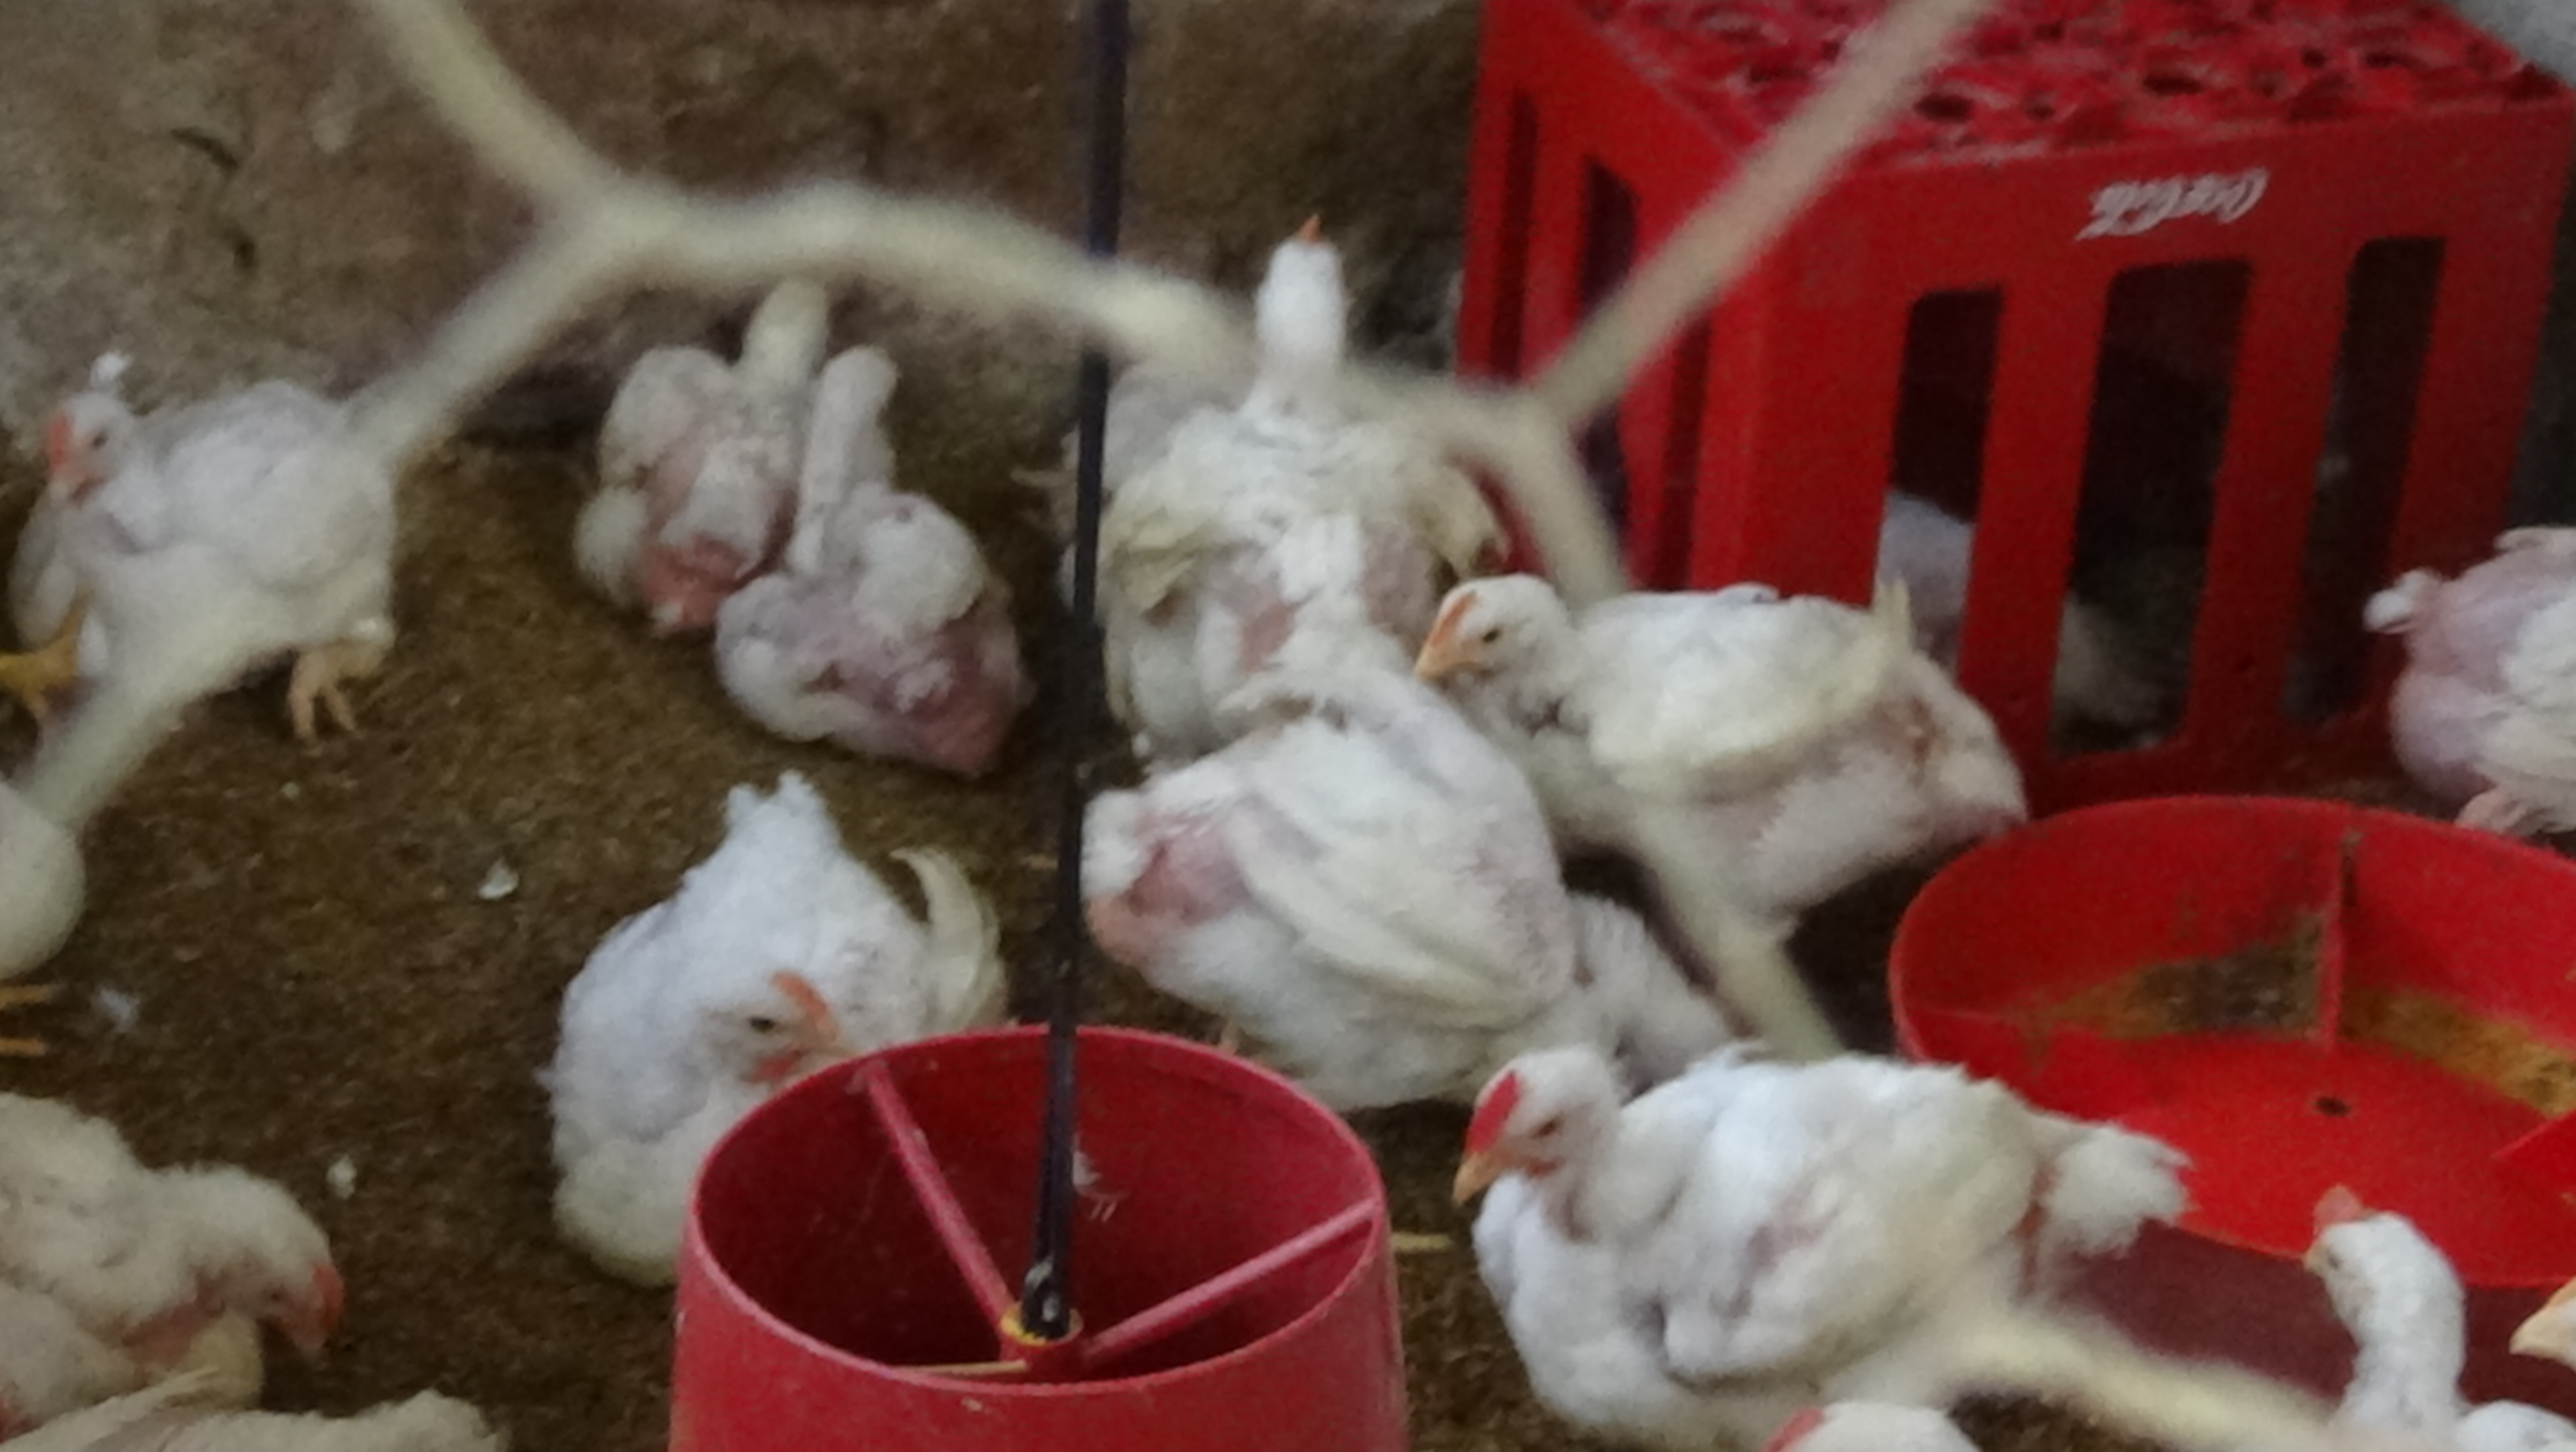Pollos: (1447, 1015, 2075, 1452), (1414, 505, 2022, 908), (533, 843, 1010, 1270), (7, 342, 395, 745), (0, 1071, 410, 1399), (768, 365, 1083, 772), (1136, 175, 1513, 510), (2238, 1140, 2576, 1452), (547, 266, 885, 540), (2355, 487, 2576, 862)
